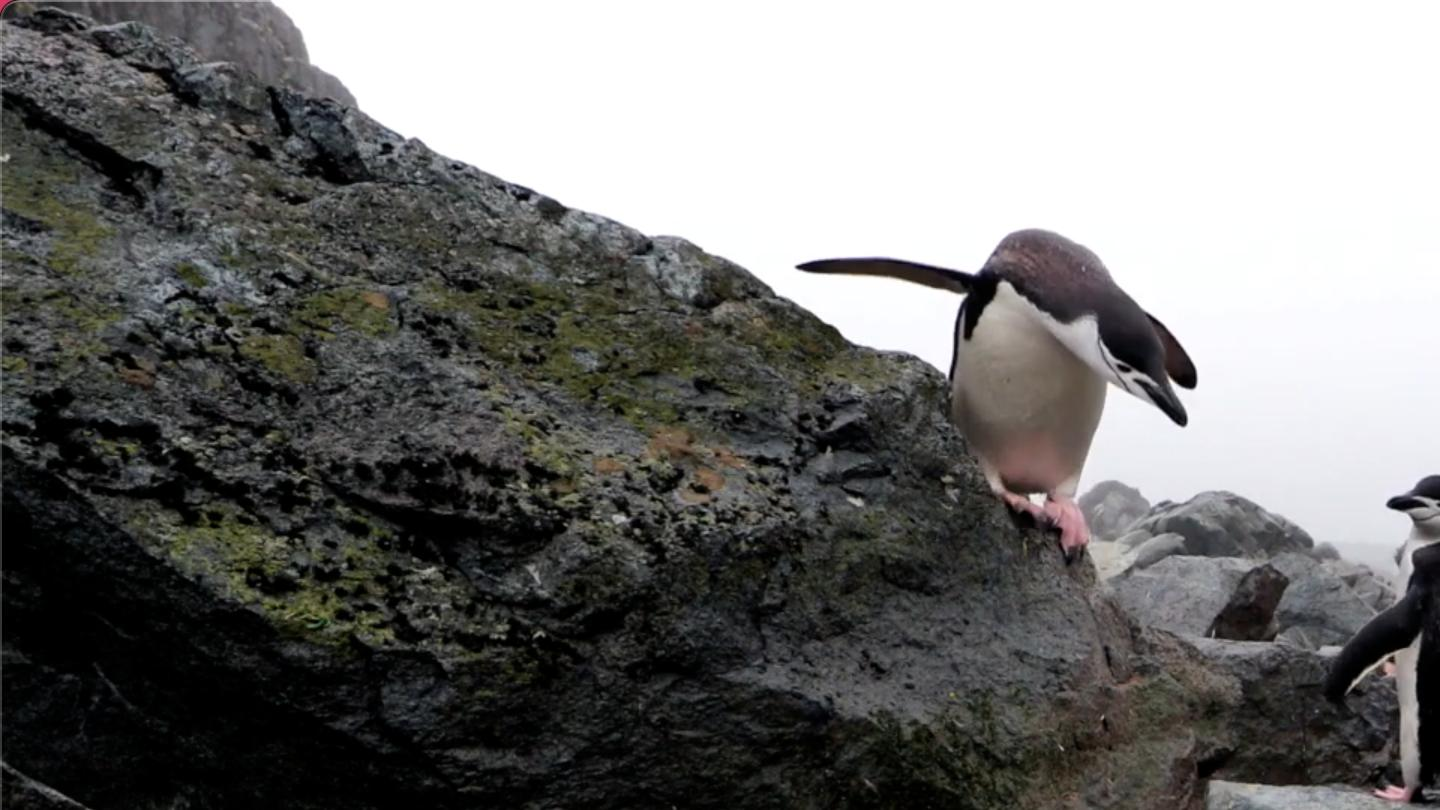Chinstrap Penguin: (795, 224, 1204, 524), (1330, 459, 1440, 808)
